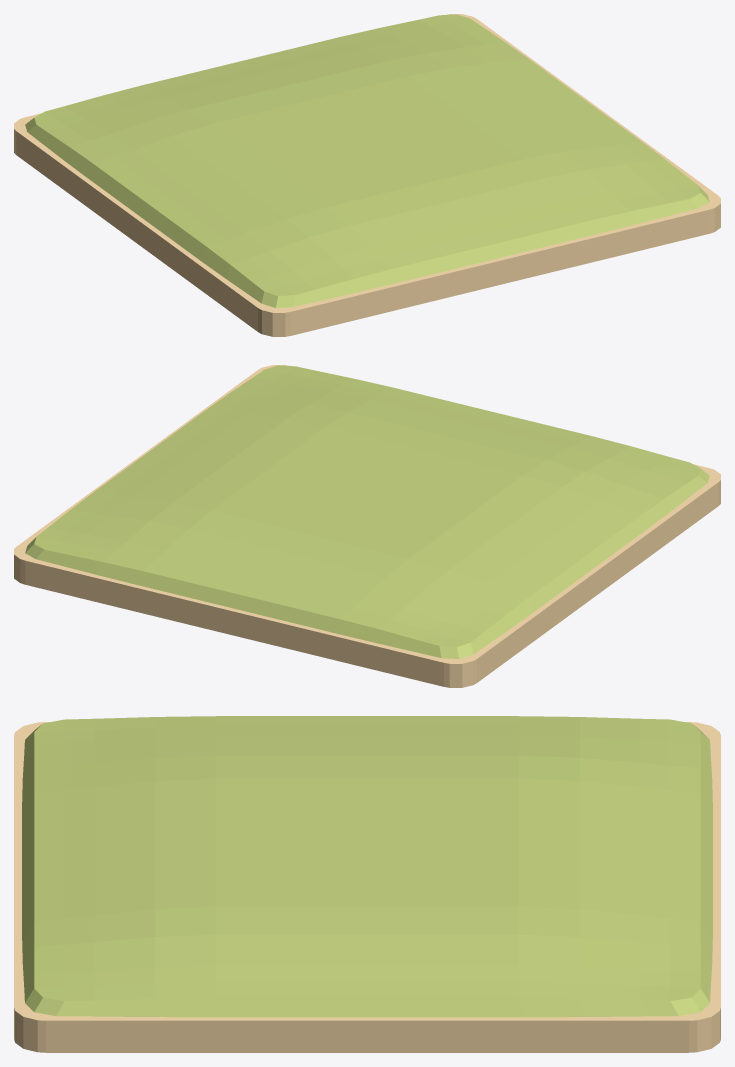
The model's file is Grass_Square.fbx.
3 renders of one model, top to bottom at view 1: azimuth 30°, elevation 25°; view 2: azimuth 150°, elevation 25°; view 3: azimuth 270°, elevation 25°, orthographic. The views are drawn at different scales.
Visible parts, largest first — view 1: Plane.001, Plane; view 2: Plane.001, Plane; view 3: Plane.001, Plane.
Boxes of the visible parts, left/top/right/bottom form: Plane.001: left=25, top=14, right=709, bottom=307; Plane: left=14, top=14, right=720, bottom=336; Plane.001: left=25, top=365, right=709, bottom=658; Plane: left=14, top=365, right=720, bottom=687; Plane.001: left=22, top=716, right=712, bottom=1017; Plane: left=14, top=722, right=720, bottom=1052.
Size of the model in its own units: 200 by 18.99 by 200.
